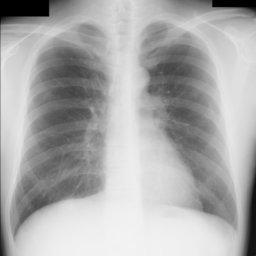left lobe: (140, 23, 237, 222)
right lobe: (12, 24, 108, 234)
